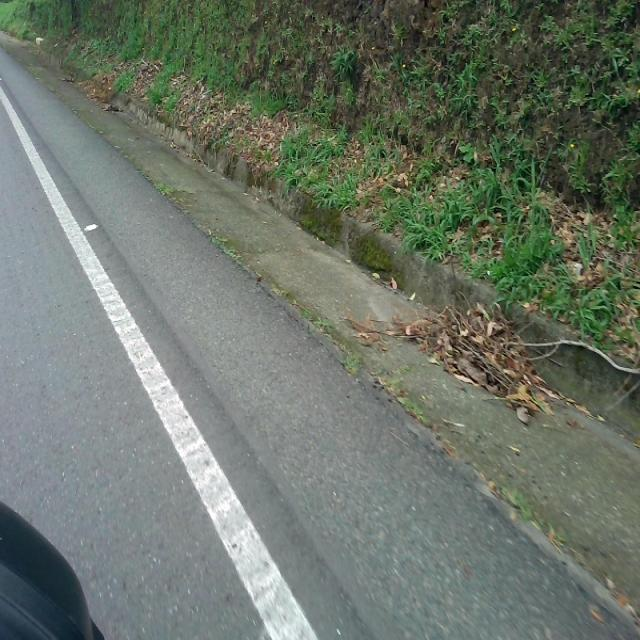DITCH: (1, 32, 638, 638), (2, 36, 638, 638), (74, 65, 638, 638)
